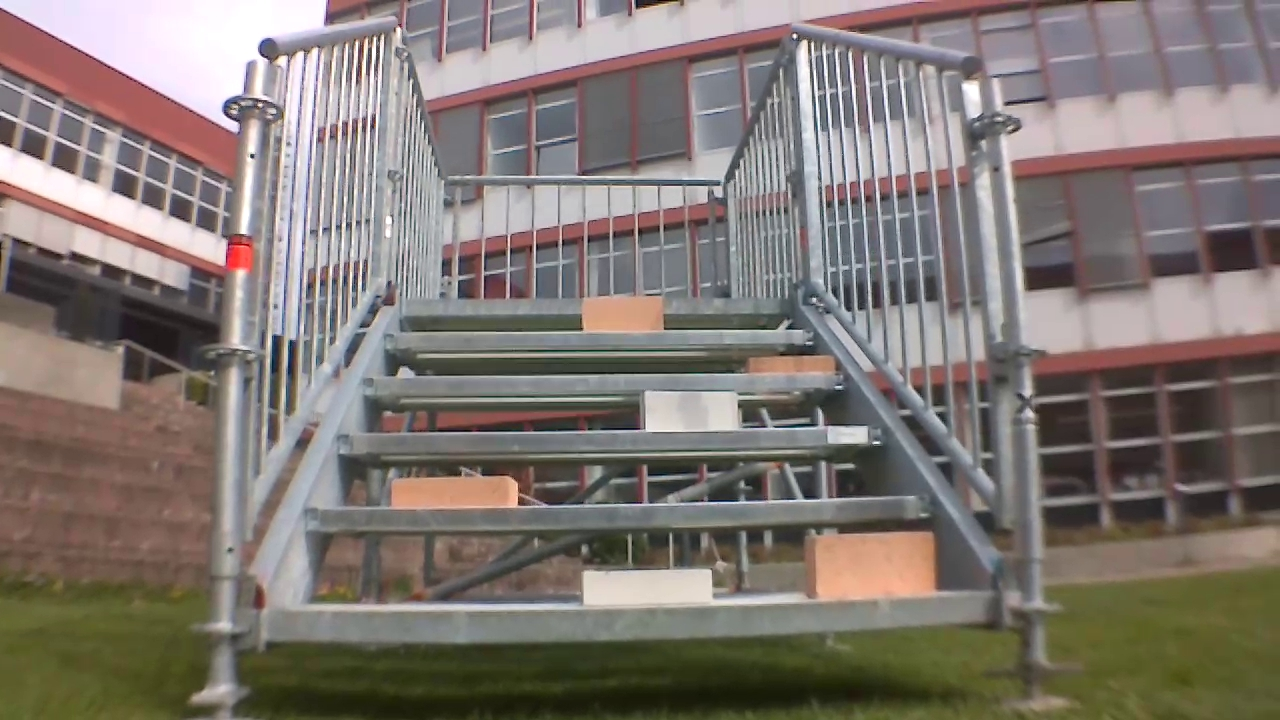brick: (805, 533, 937, 596), (577, 570, 717, 604), (639, 389, 746, 431), (393, 477, 521, 507), (582, 295, 666, 328), (751, 353, 836, 372)
edge: (258, 592, 1000, 643), (306, 493, 931, 536), (337, 426, 885, 457), (362, 372, 846, 399), (382, 328, 813, 350), (403, 295, 795, 315)
stairs: (215, 13, 1025, 689)
steps: (244, 295, 1002, 646)
